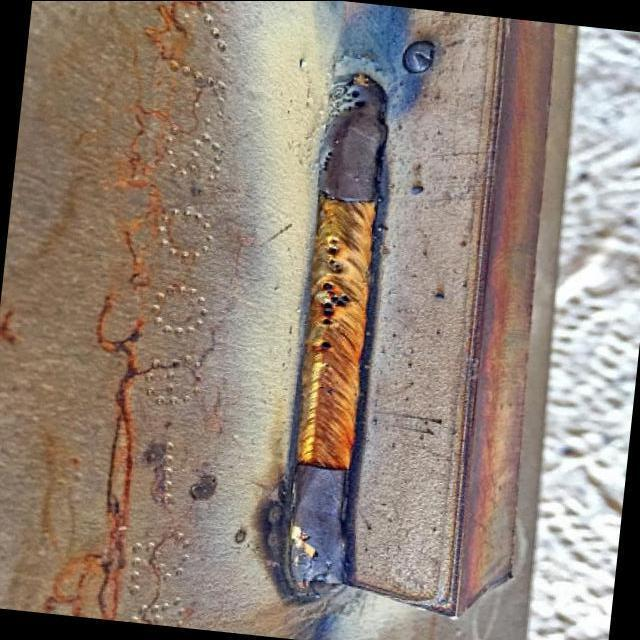defect: (318, 279, 359, 333), (331, 88, 368, 115), (322, 236, 344, 276), (316, 142, 337, 173), (316, 335, 334, 353)
